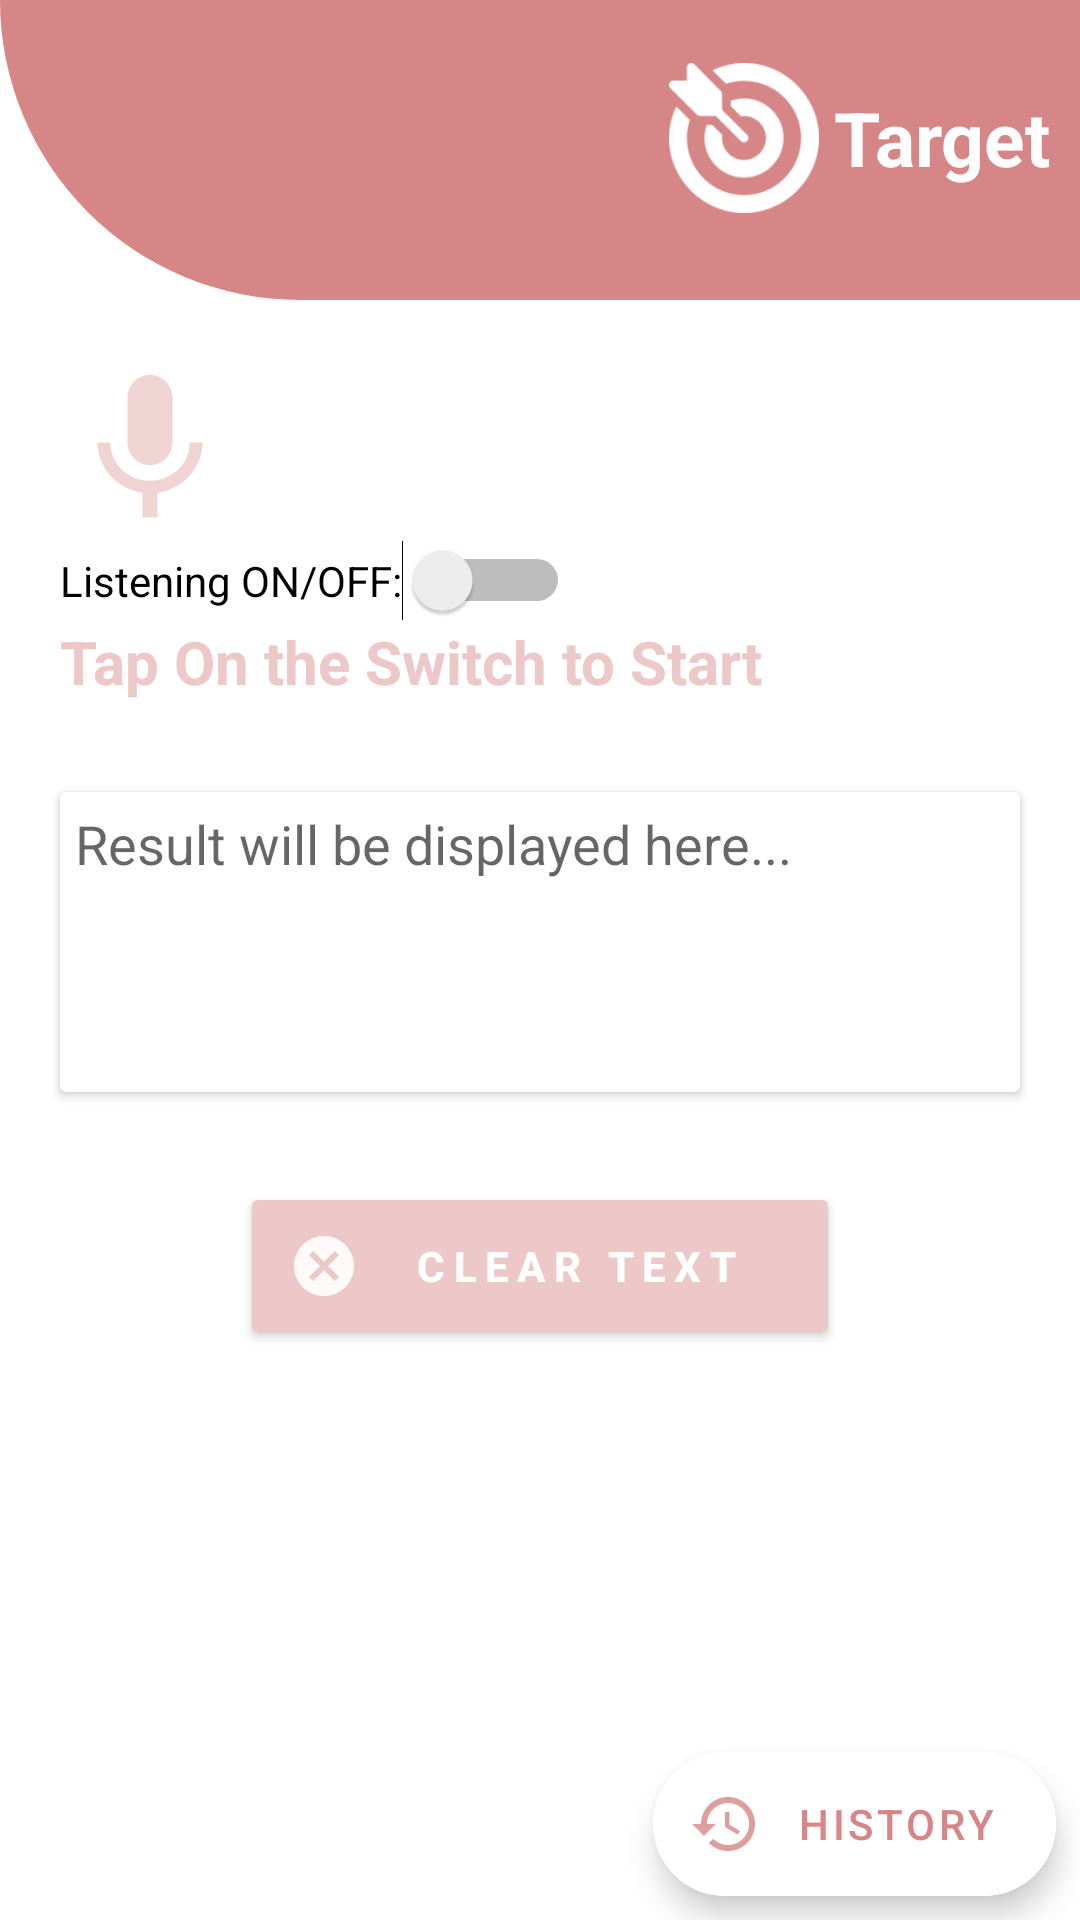

Icon click points for this 1080w x 1920h phone screenshot, format [x,y]:
mic: [150,446]
